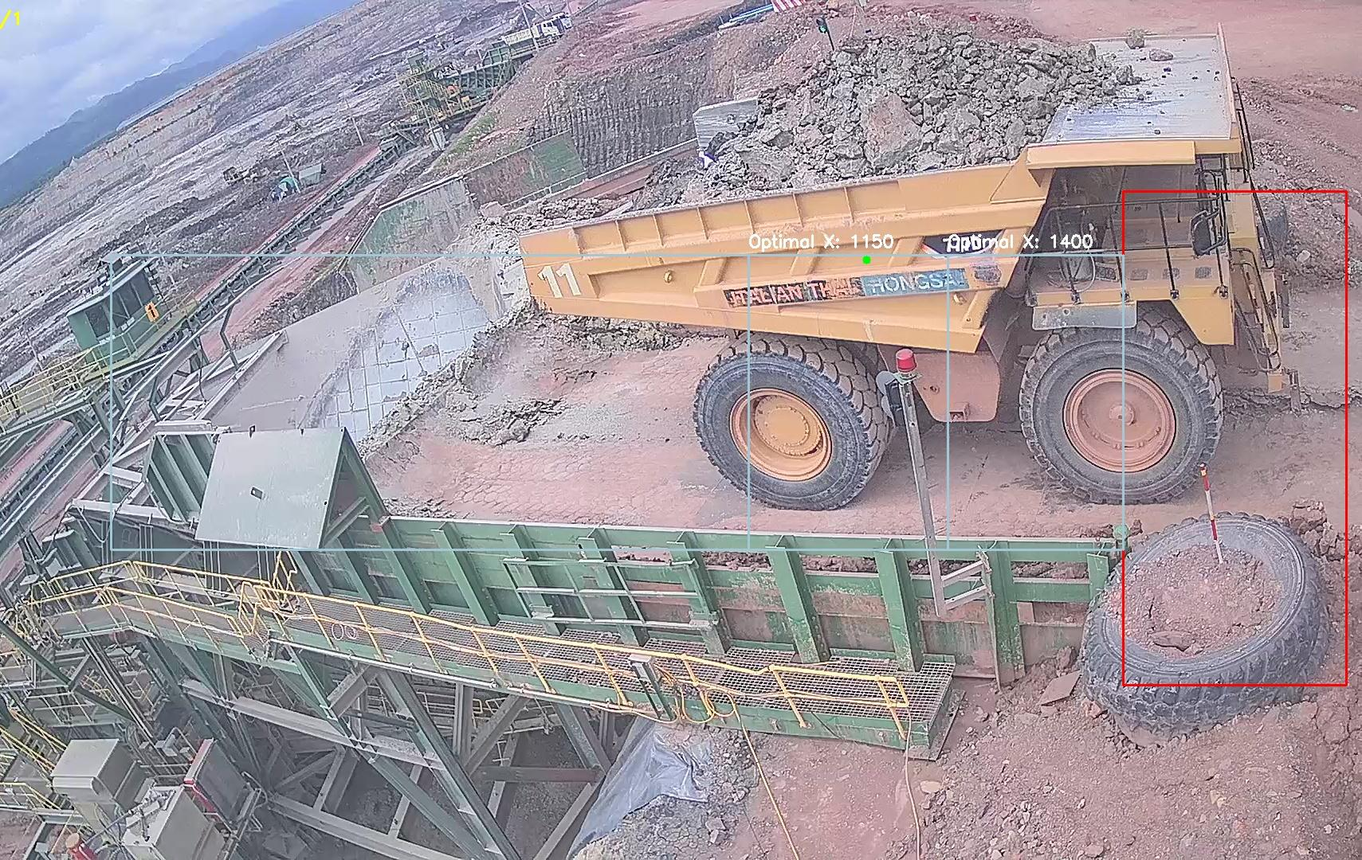company: (748, 25, 1045, 187), (714, 270, 979, 314)
mining_truck: (517, 17, 1317, 530)
tail_number: (526, 253, 598, 315)
